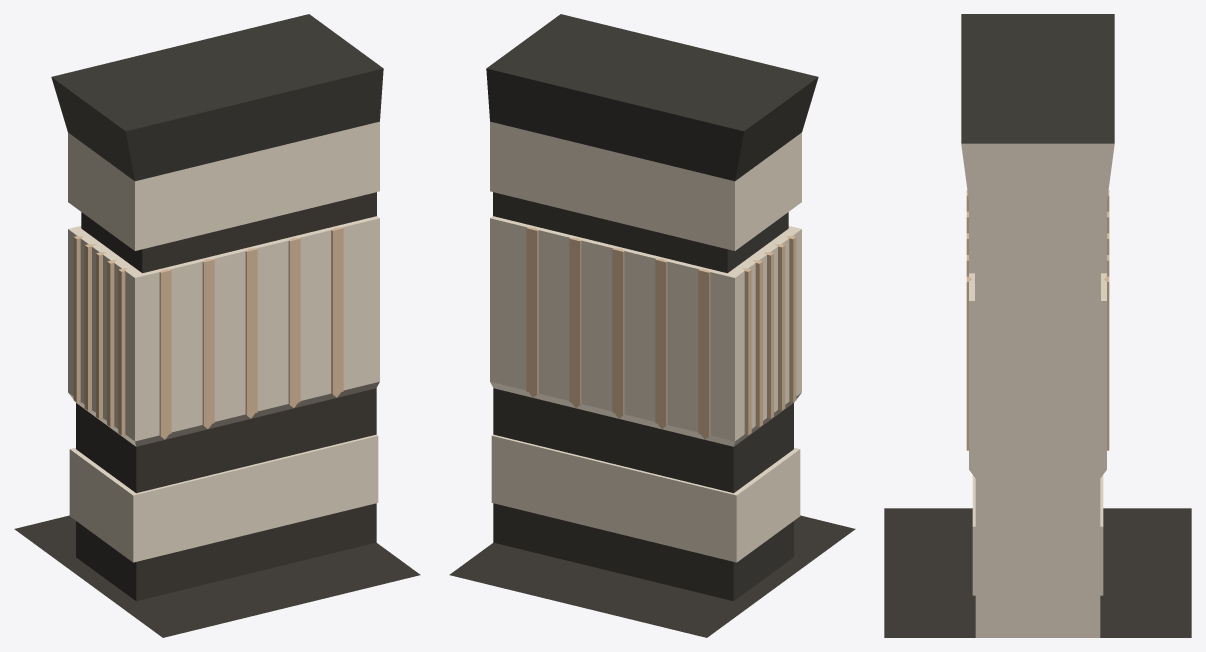
Rendered from EndedgeX.fbx.
The picture shows the model from 3 angles, left to right: view 1: azimuth 30°, elevation 25°; view 2: azimuth 150°, elevation 25°; view 3: azimuth 270°, elevation 25°; orthographic projection. The views are drawn at different scales.
Parts seen in each view (by area): view 1: 평면.002; view 2: 평면.002; view 3: 평면.002.
Part boxes in pixels (<box>): 평면.002: <box>14,14,420,637</box>; 평면.002: <box>449,14,855,637</box>; 평면.002: <box>884,14,1191,637</box>.
Bounding box in the file's own units: 200 × 355 × 200.
